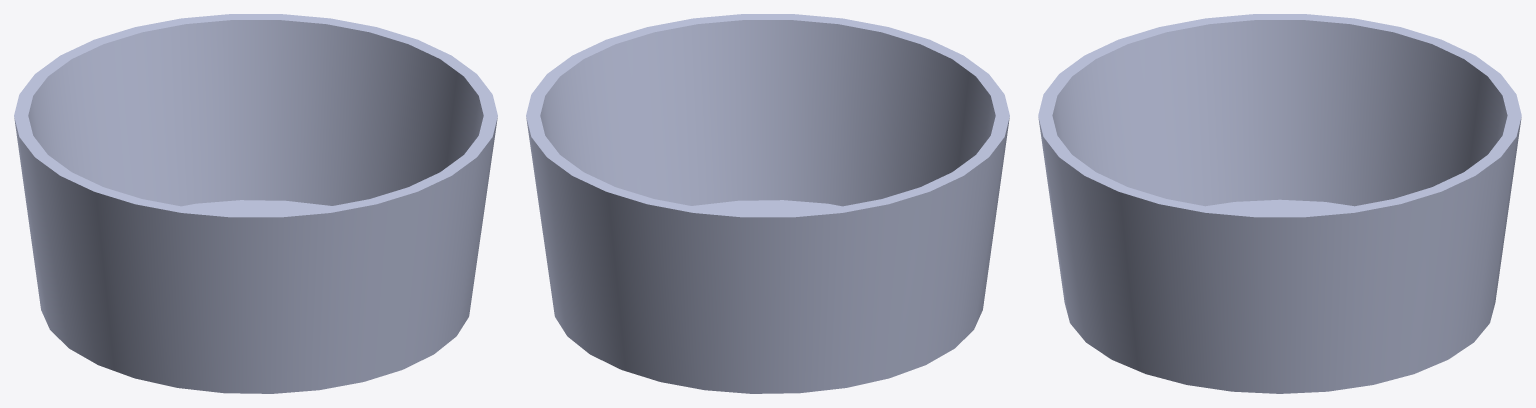
The model's file is gujing-pot.glb.
3 renders of one model, left to right at view 1: azimuth 30°, elevation 25°; view 2: azimuth 150°, elevation 25°; view 3: azimuth 270°, elevation 25°, orthographic.
Parts seen in each view (by area): view 1: 古井甑锅; view 2: 古井甑锅; view 3: 古井甑锅.
Part boxes in pixels (left/top/right/bottom): 古井甑锅: left=14, top=14, right=497, bottom=393; 古井甑锅: left=526, top=14, right=1009, bottom=393; 古井甑锅: left=1038, top=14, right=1521, bottom=393.
Size of the model in its own units: 2.54 by 1.09 by 2.55.
